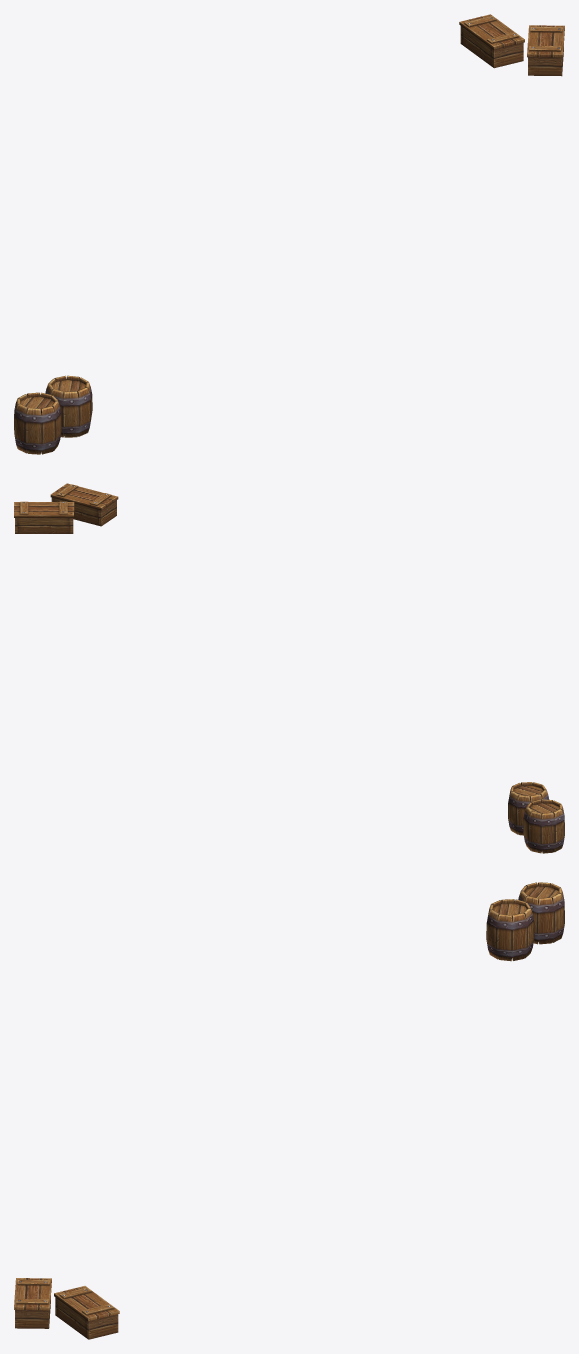
The model's file is Area_13_33.fbx.
3 views of the same model, one above another, from view 1: azimuth 90°, elevation 25°; view 2: azimuth 150°, elevation 25°; view 3: azimuth 270°, elevation 25° (orthographic). The views are drawn at different scales.
Visible parts, largest first — view 1: Area_13_33; view 2: Area_13_33; view 3: Area_13_33.
Part boxes in pixels (x1=…): Area_13_33: x1=14, y1=14, x2=564, y2=454; Area_13_33: x1=14, y1=483, x2=564, y2=853; Area_13_33: x1=14, y1=882, x2=564, y2=1339.
Bounding box in the file's own units: 2496 × 125 × 1392.
